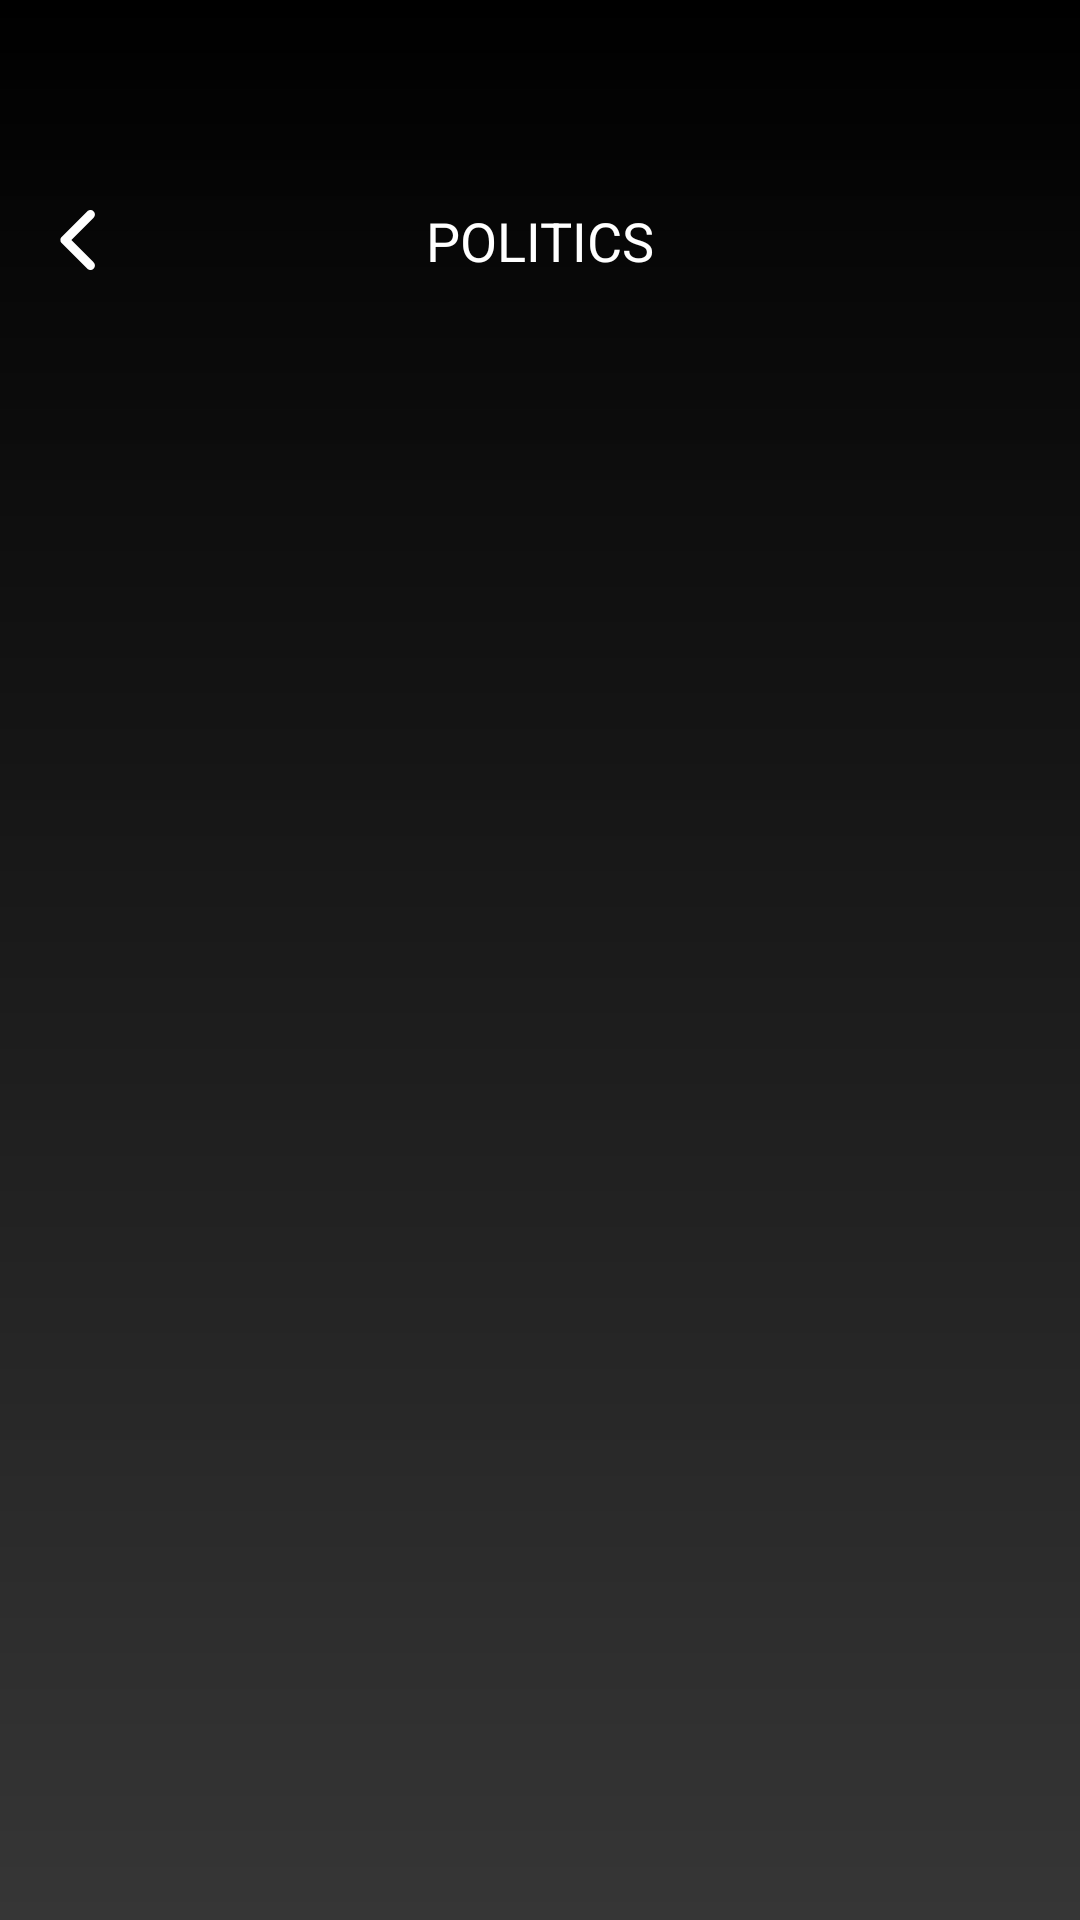

Icon bounding boxes for this 1080×1920 phone screenshot, format region(x1, y1, x2, y2):
back: region(60, 210, 95, 270)
